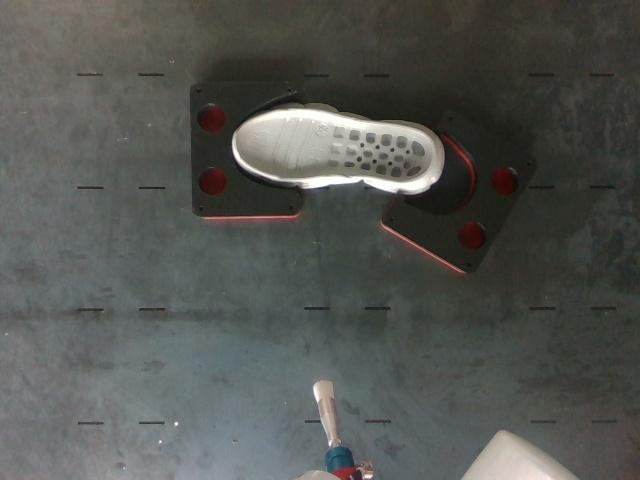shoes: (235, 111, 433, 182)
